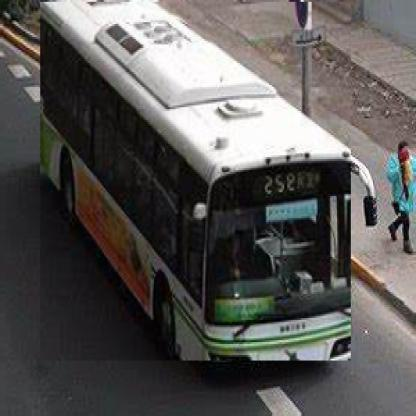bus: (40, 3, 352, 363)
